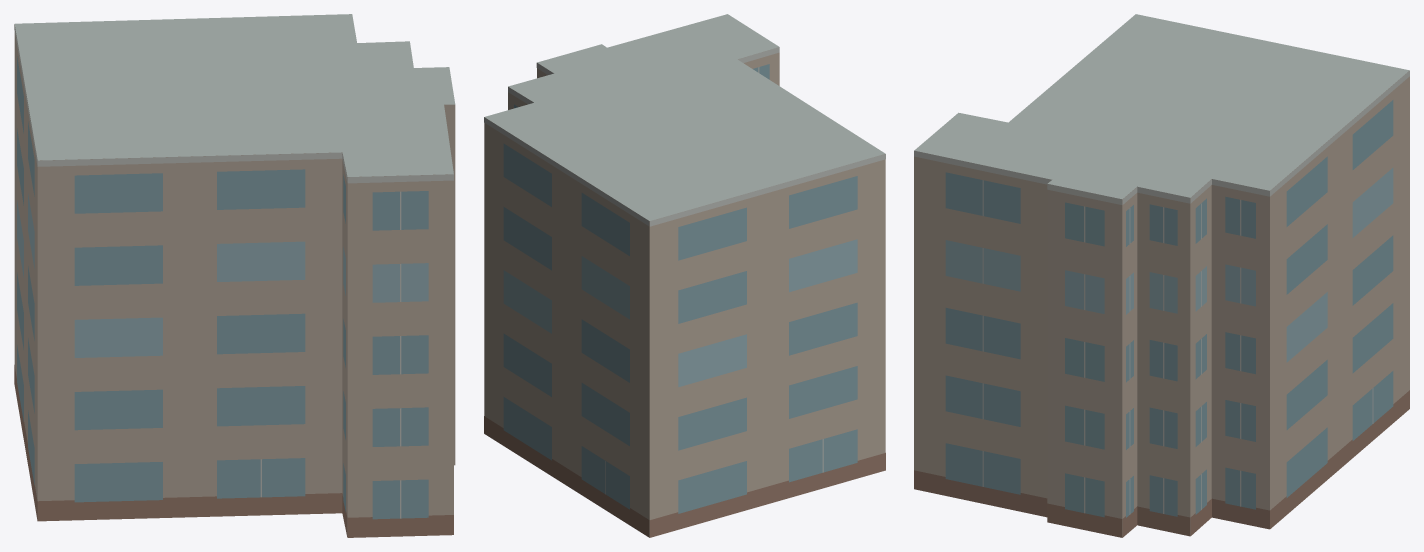
The model's file is survey-upis-32998349.glb.
3 renders of one model, left to right at view 1: azimuth 30°, elevation 25°; view 2: azimuth 150°, elevation 25°; view 3: azimuth 270°, elevation 25°, orthographic. The views are drawn at different scales.
Visible parts, largest first — view 1: survey-upis-32998349.tmp; view 2: survey-upis-32998349.tmp; view 3: survey-upis-32998349.tmp.
Part boxes in pixels (left/top/right/bottom): survey-upis-32998349.tmp: left=14, top=14, right=455, bottom=537; survey-upis-32998349.tmp: left=484, top=14, right=885, bottom=537; survey-upis-32998349.tmp: left=914, top=14, right=1409, bottom=537.
Bounding box in the file's own units: 16.38 × 13.95 × 18.52.
